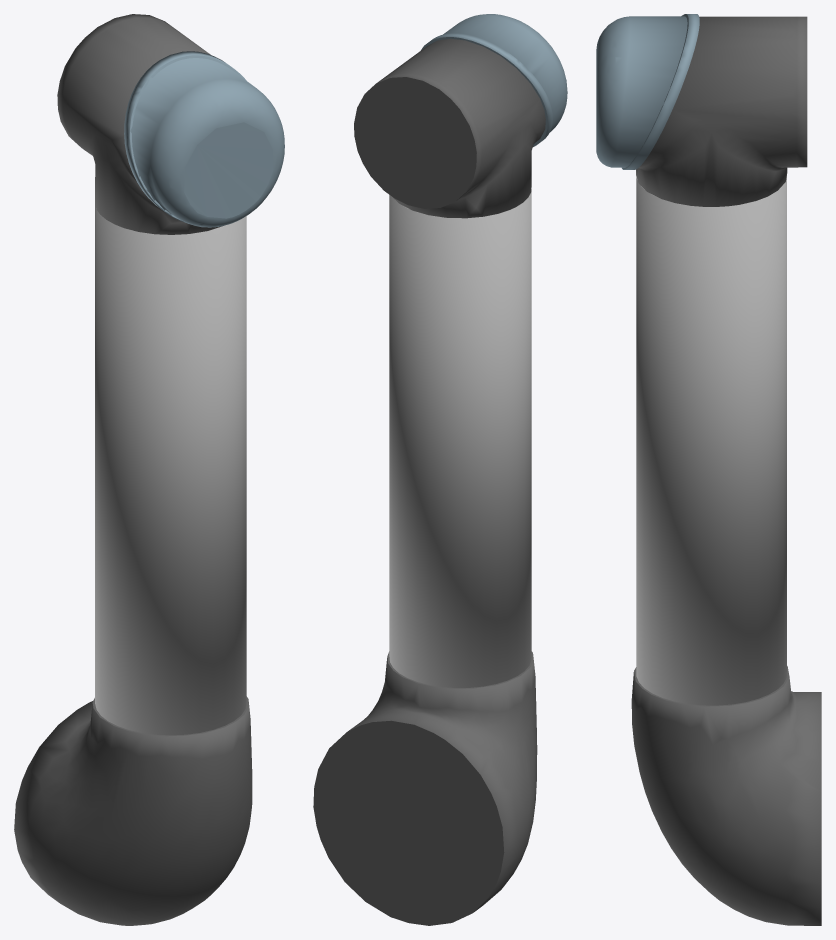
Rendered from Forearm.dae.
3 views of the same model, side by side, from view 1: azimuth 30°, elevation 25°; view 2: azimuth 150°, elevation 25°; view 3: azimuth 270°, elevation 25° (orthographic). The views are drawn at different scales.
Parts seen in each view (by area): view 1: Actor1, Actor3, Actor0_001, Actor2; view 2: Actor1, Actor3, Actor2, Actor0_001; view 3: Actor1, Actor3, Actor2, Actor0_001.
Boxes of the visible parts, x1,y1,x2,y2 form: Actor1: [95, 204, 246, 735]; Actor3: [14, 696, 252, 925]; Actor0_001: [124, 51, 284, 227]; Actor2: [57, 14, 222, 234]; Actor1: [389, 189, 531, 687]; Actor3: [313, 651, 537, 925]; Actor2: [354, 38, 545, 218]; Actor0_001: [421, 14, 567, 146]; Actor1: [636, 176, 786, 705]; Actor3: [631, 666, 821, 925]; Actor2: [636, 16, 807, 206]; Actor0_001: [596, 14, 699, 169].
Bounding box in the file's own units: 0.116 × 0.1117 × 0.4891.
